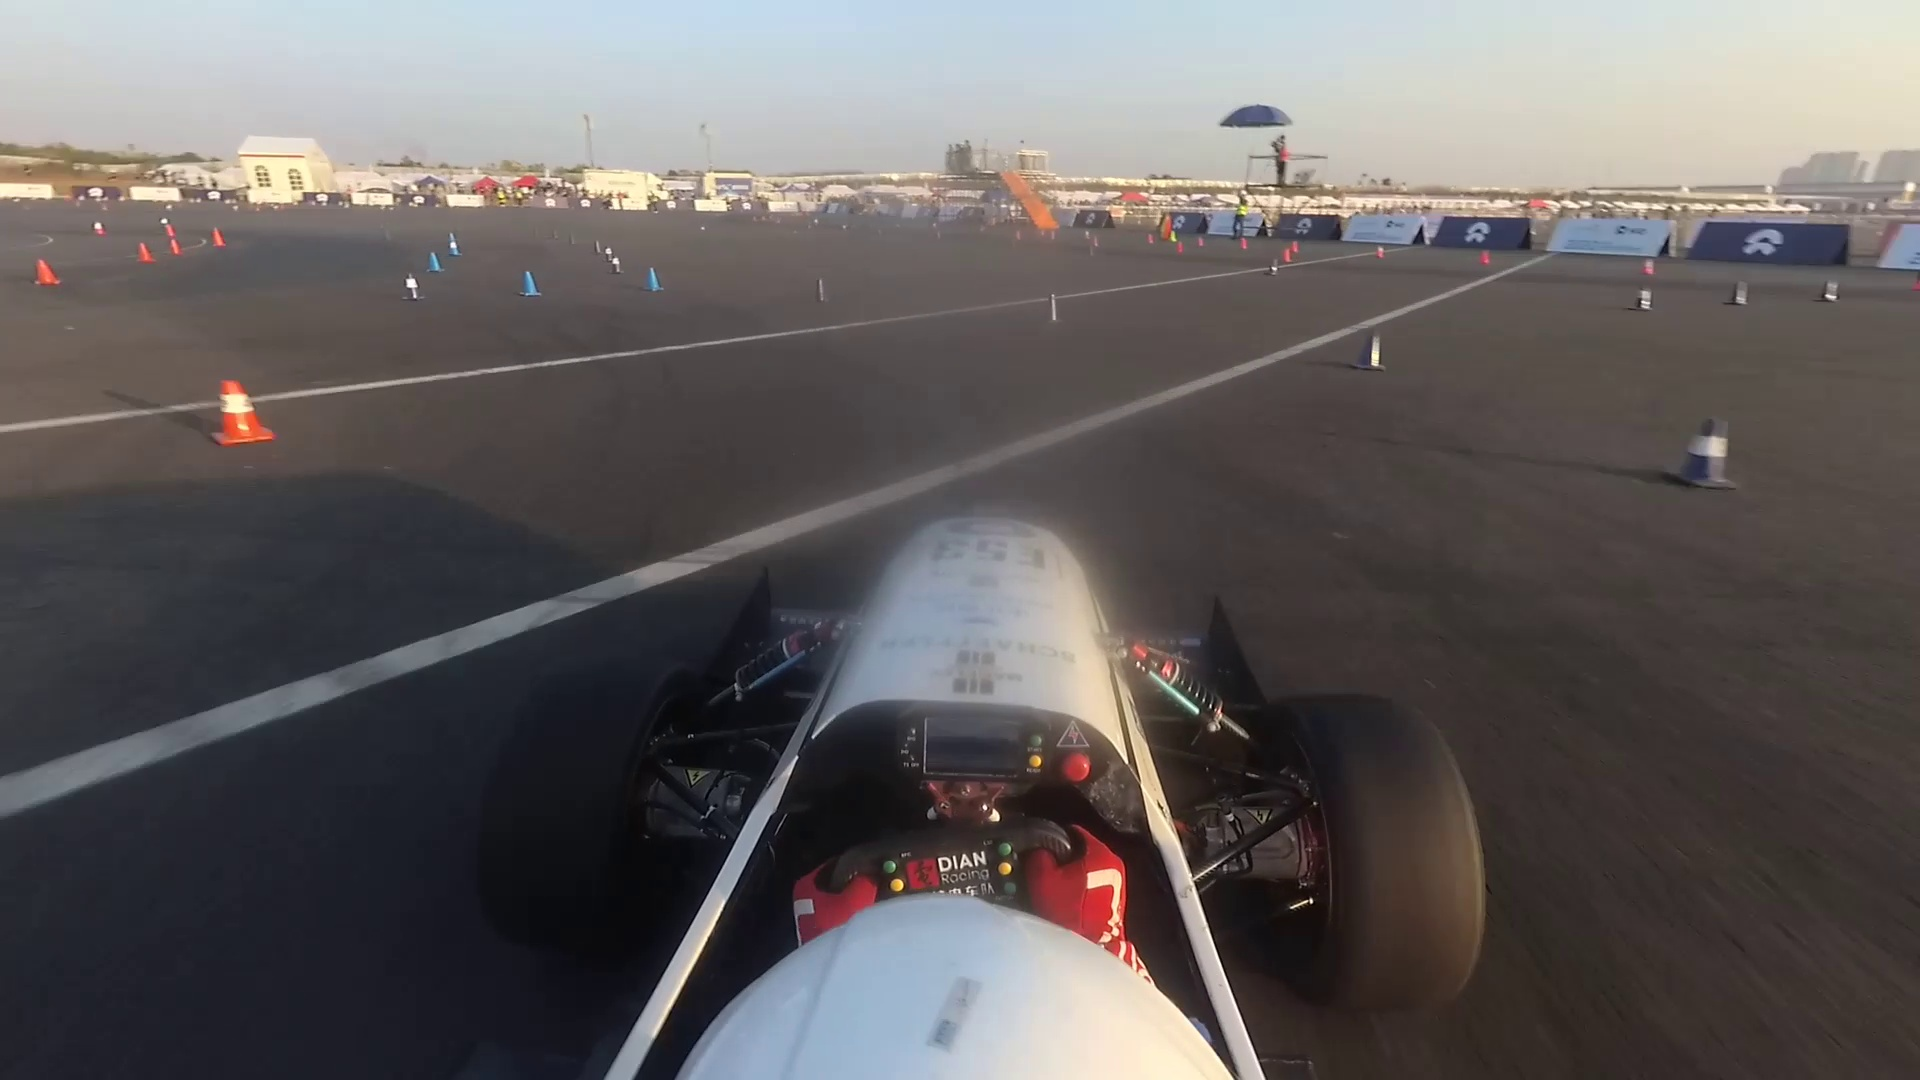blue_cone: (1664, 423, 1742, 489), (1361, 332, 1389, 371), (640, 265, 669, 294), (1722, 280, 1753, 307), (1816, 276, 1841, 306), (516, 270, 543, 297), (1627, 287, 1655, 313), (1044, 294, 1064, 320), (812, 278, 829, 305), (427, 252, 444, 274), (447, 232, 462, 258), (611, 256, 622, 276), (604, 247, 612, 262), (593, 241, 603, 255)
red_cone: (200, 378, 281, 452), (32, 255, 66, 289), (1634, 252, 1658, 280), (204, 225, 228, 251), (135, 241, 157, 262), (1476, 247, 1493, 266), (94, 218, 108, 236), (166, 239, 182, 255), (1280, 248, 1294, 264), (1371, 244, 1385, 258), (1288, 239, 1302, 253), (166, 223, 177, 239), (1145, 233, 1156, 245), (1238, 236, 1249, 248), (1176, 243, 1185, 255), (1197, 235, 1204, 247)
